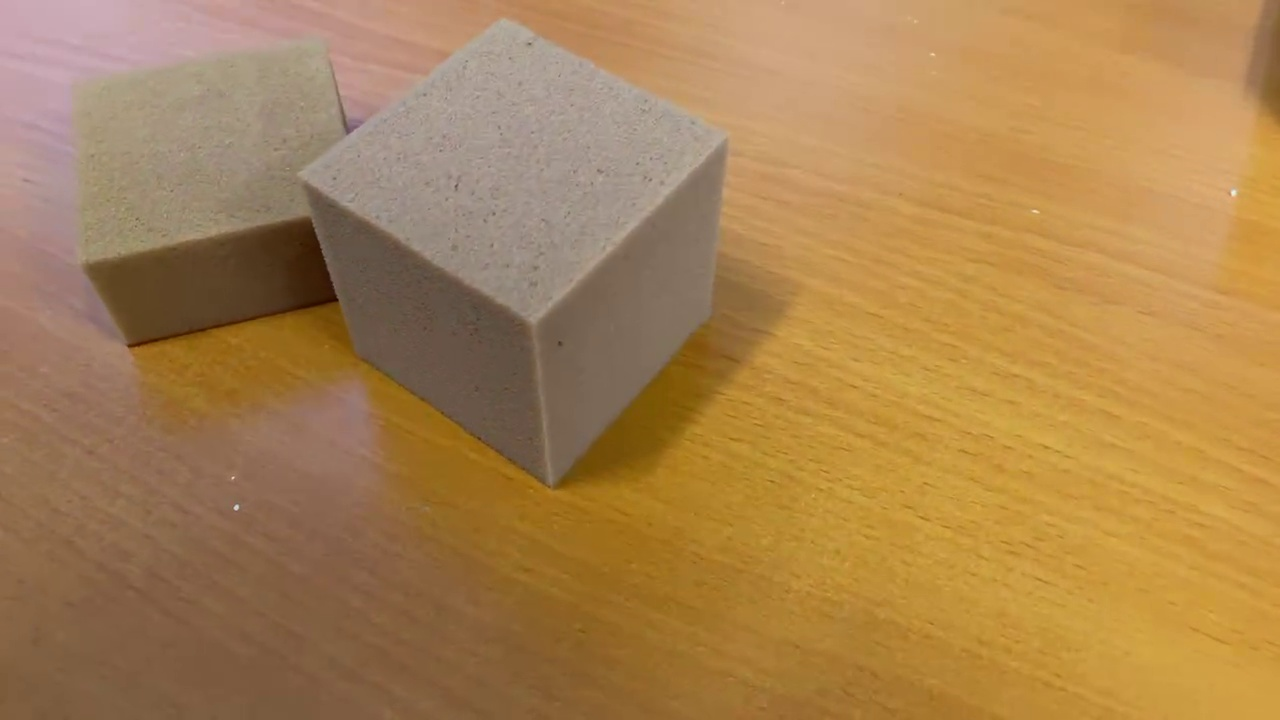Cube: (287, 11, 739, 493)
Cube_short: (64, 31, 363, 358)
